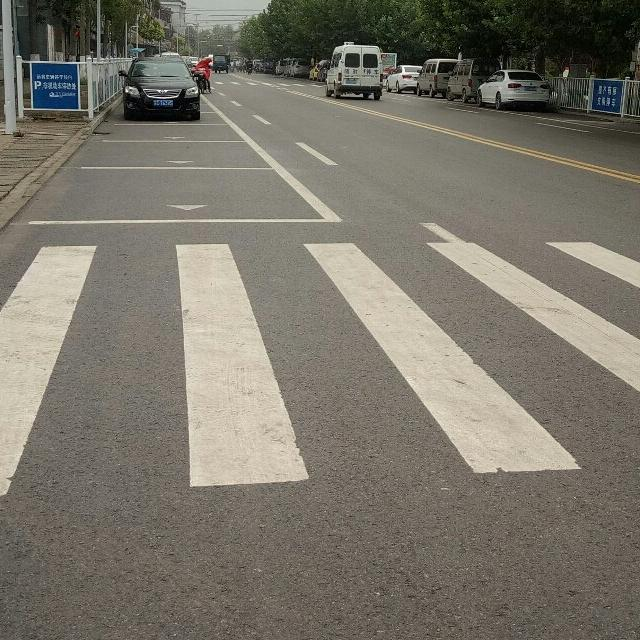curb: (0, 96, 118, 230)
